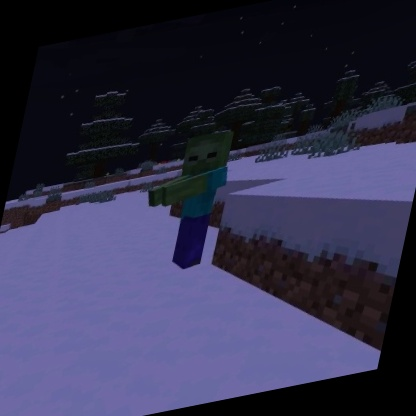zombie: (126, 125, 241, 283)
